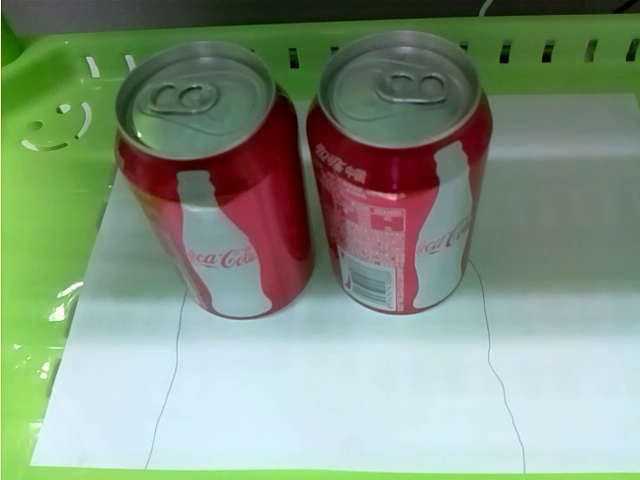cocacola: (112, 40, 315, 322), (309, 32, 492, 314)
